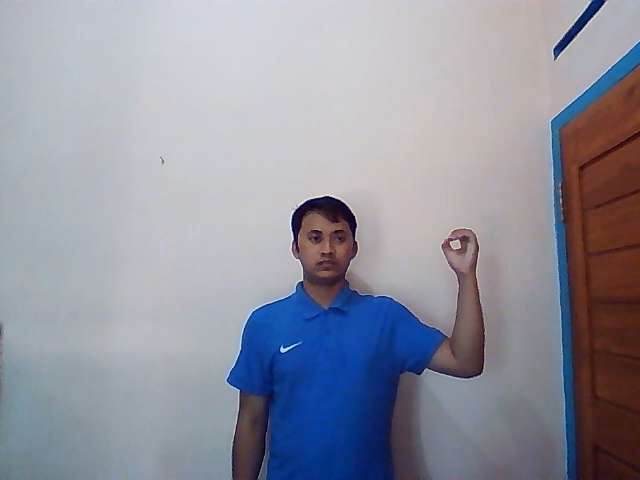O: (441, 227, 481, 277)
